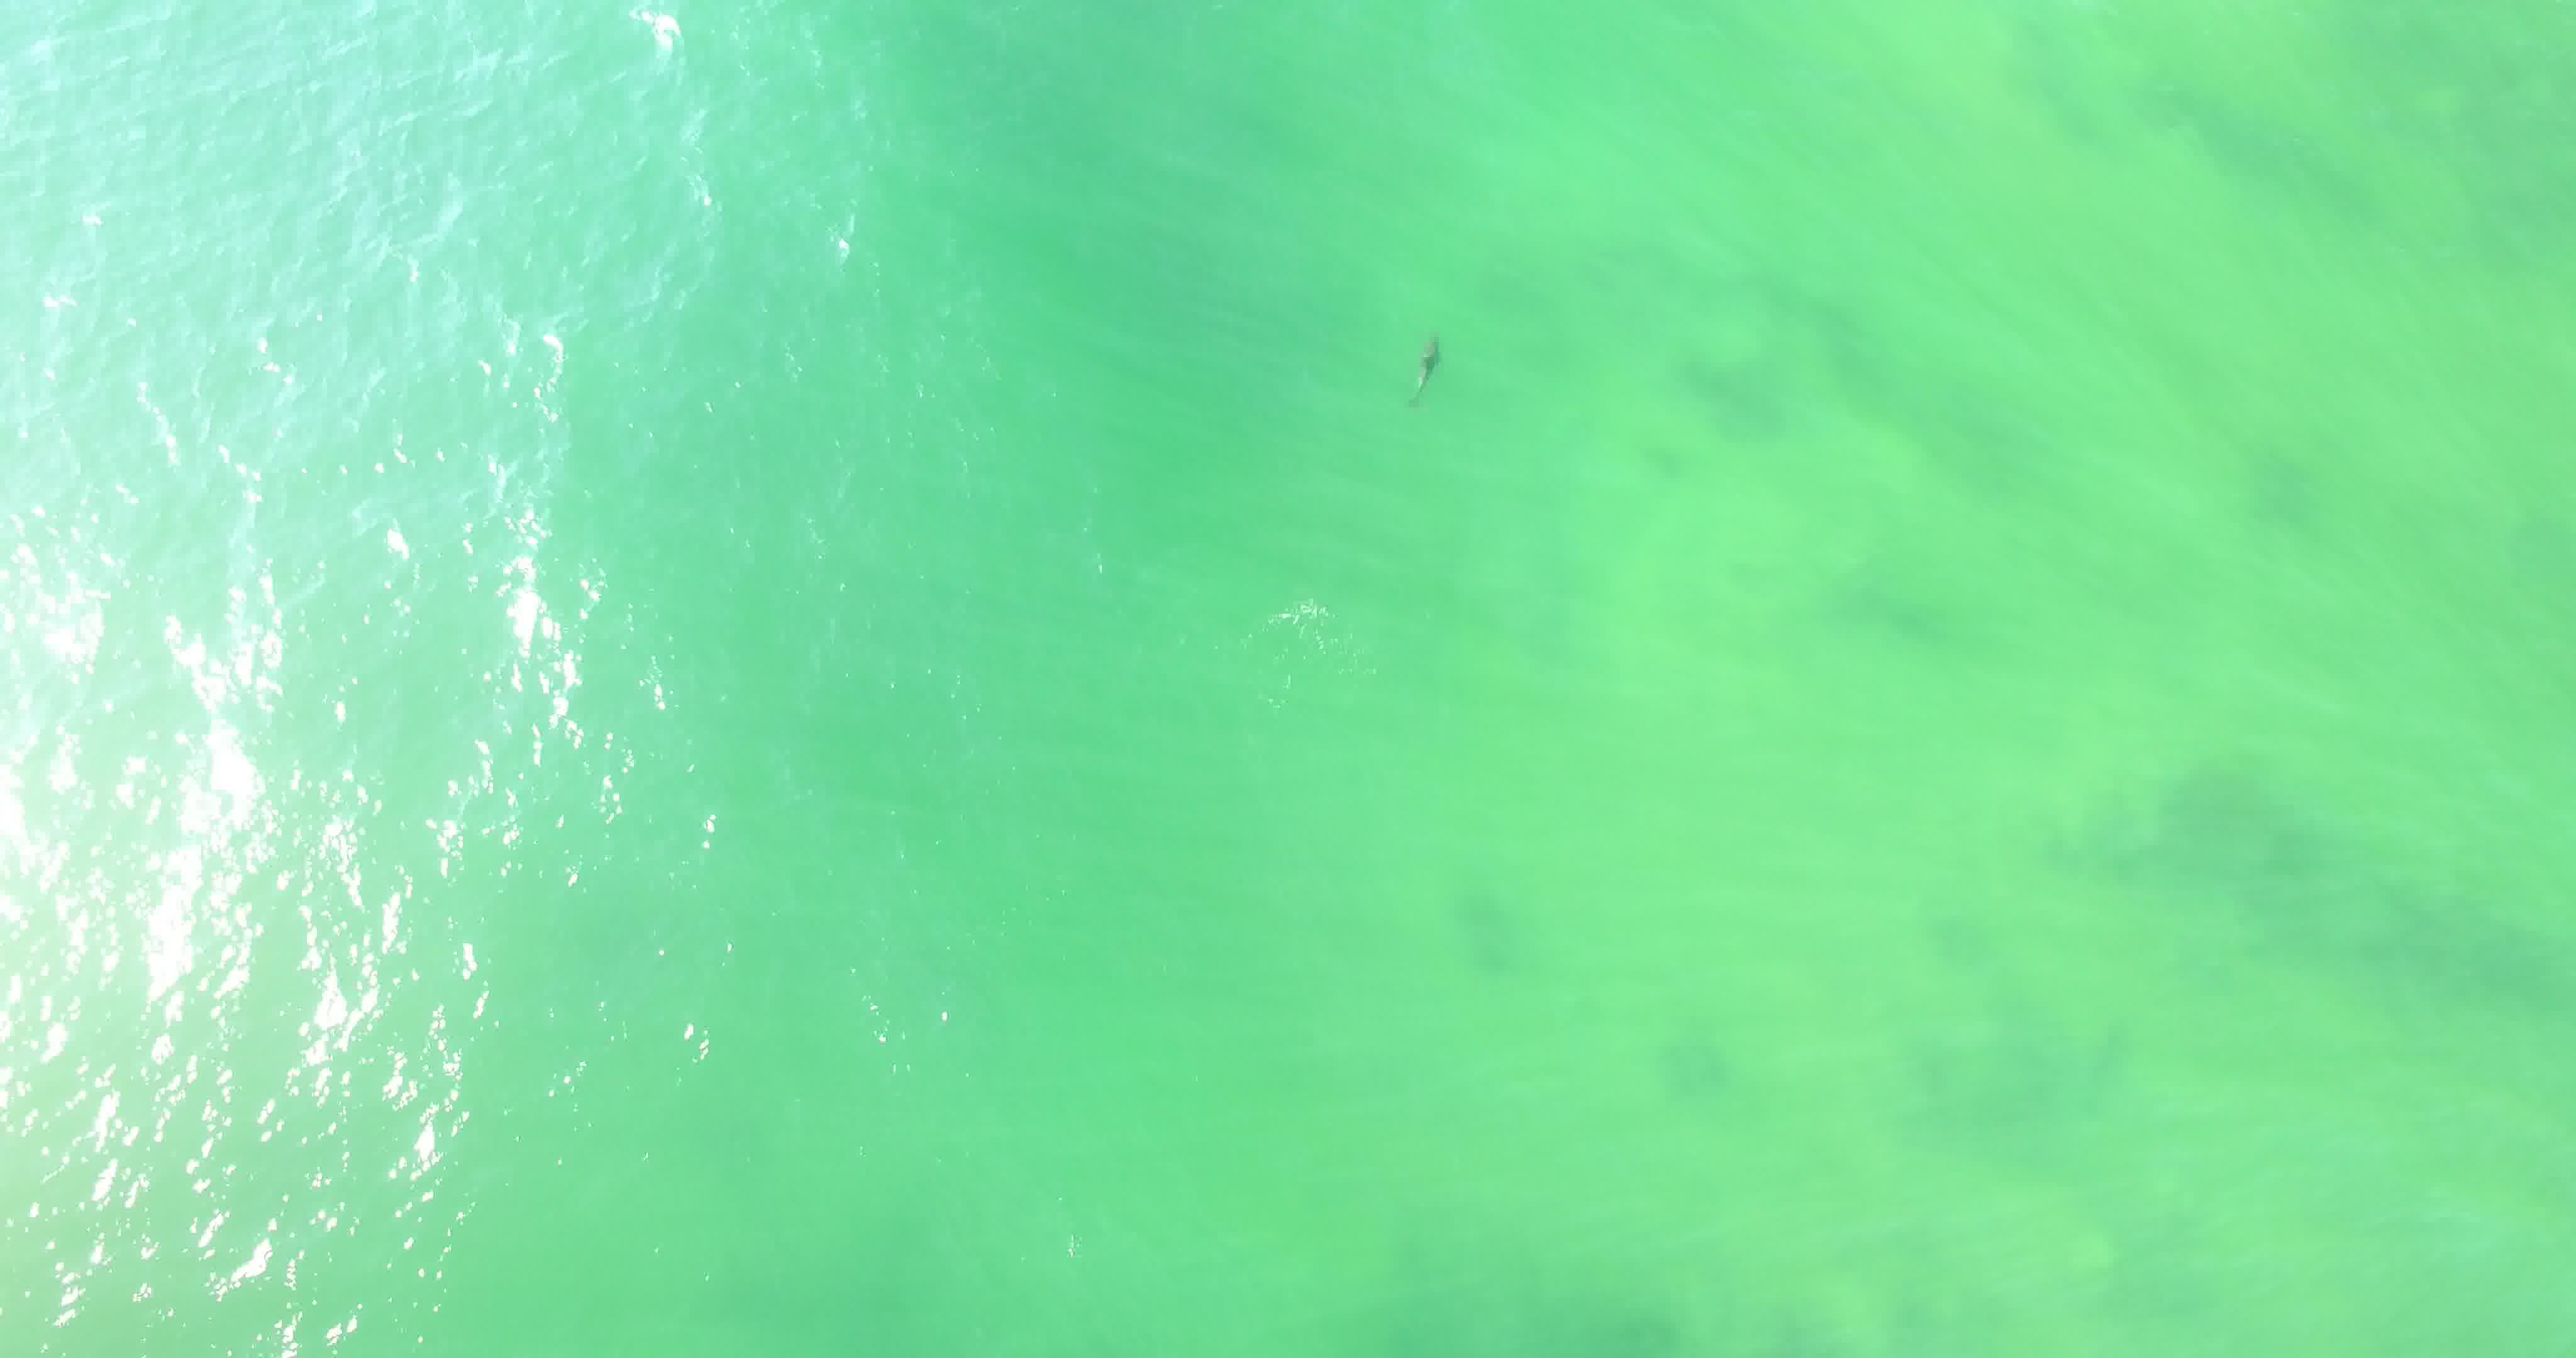dolphin: (1383, 305, 1462, 417)
